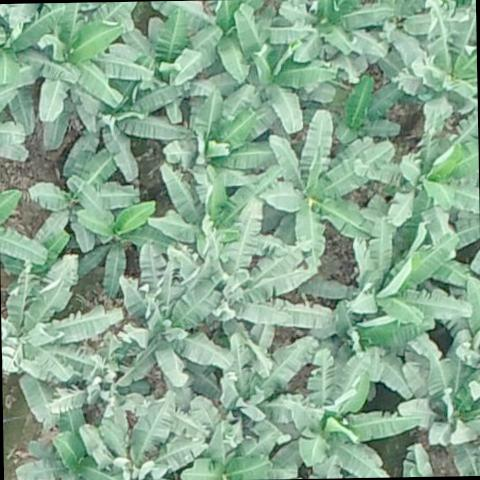Banana-plant: (265, 108, 391, 250), (284, 347, 414, 479), (225, 197, 335, 353), (118, 243, 229, 396), (0, 254, 120, 388), (350, 223, 470, 350), (220, 2, 334, 135), (353, 117, 480, 225), (63, 80, 186, 189), (34, 1, 150, 116), (202, 332, 316, 441), (161, 91, 271, 198), (307, 298, 421, 401), (383, 0, 478, 119), (29, 145, 138, 246), (122, 10, 222, 118), (150, 159, 252, 253), (154, 0, 262, 83), (264, 0, 391, 69), (88, 404, 203, 480), (74, 202, 168, 294), (399, 352, 480, 458), (15, 405, 118, 480), (0, 3, 64, 123), (182, 418, 268, 480), (334, 72, 404, 143)
